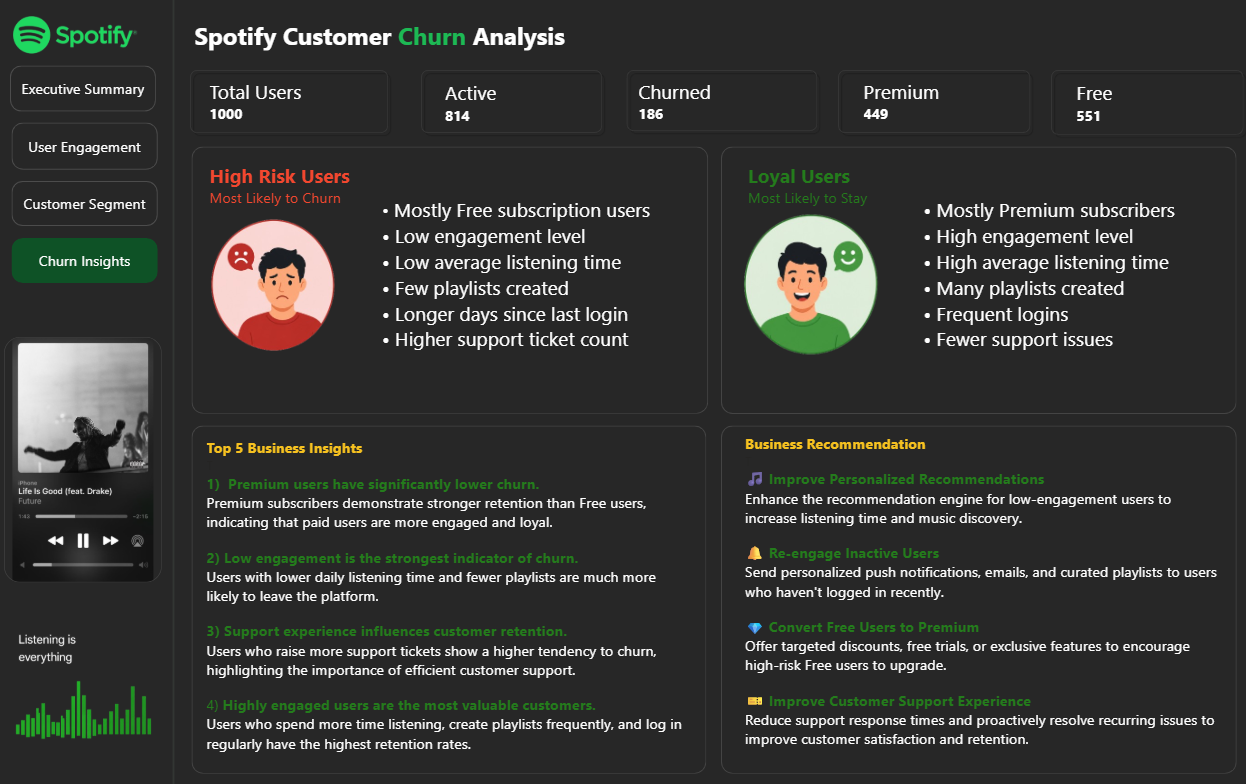

The page's visual inventory and layout, read from the dashboard file:
{"tool":"powerbi","page":{"name":"Page 4","canvas":[1400,900],"ordinal":3},"visuals":[{"type":"image","box":[8.8,0,161.2,88.8],"z":0},{"type":"shape","box":[218,168,574,297],"z":0,"group":"g6"},{"type":"shape","box":[807,479,573,387],"z":0,"group":"g8"},{"type":"shape","box":[212.3,77.7,230.1,80.1],"z":1000,"group":"g1"},{"type":"shape","box":[807.1,168.6,572.9,297.1],"z":1000},{"type":"image","box":[218.3,235,178.3,163.3],"z":1000,"group":"g6"},{"type":"textbox","box":[824.5,489,540,368.8],"z":1000,"group":"g8"},{"type":"textbox","box":[216.7,21.7,471.7,45],"z":2000},{"type":"textbox","box":[233.3,180,191.7,76.7],"z":2000,"group":"g6"},{"type":"shape","box":[16.7,77.8,162.2,51.1],"z":3000},{"type":"textbox","box":[233.5,85.5,258.6,65.4],"z":3000,"group":"g1"},{"type":"textbox","box":[425,218.3,345,201.7],"z":3000,"group":"g6"},{"type":"image","box":[815.7,237.8,177.8,163.3],"z":3000,"group":"g9"},{"type":"shape","box":[17.5,141.8,162.5,52.5],"z":4000},{"type":"textbox","box":[831.8,180,191.7,76.7],"z":5000,"group":"g9"},{"type":"shape","box":[17.5,270,162.5,50],"z":5000},{"type":"shape","box":[17.5,207.1,162.5,50],"z":6000},{"type":"shape","box":[191.7,0,13.3,900],"z":7000},{"type":"textbox","box":[1026.8,218.3,345,201.7],"z":7000,"group":"g9"},{"type":"group","id":"g1","title":"Group 1","box":[212.3,77.7,279.2,80],"z":8000},{"type":"group","id":"g2","title":"Group 2","box":[468,78,212,80],"z":9000},{"type":"shape","box":[468,78,211.2,80],"z":9000,"group":"g2"},{"type":"group","id":"g3","title":"Group 3","box":[696,78,220,78],"z":10000},{"type":"group","id":"g4","title":"Group 4","box":[1168,78,224,82],"z":11000},{"type":"textbox","box":[494.4,88,186,68.4],"z":11000,"group":"g2"},{"type":"group","id":"g5","title":"Group 5","box":[932.3,77.7,233.8,80],"z":12000},{"type":"shape","box":[932.3,77.7,223.7,80],"z":13000,"group":"g5"},{"type":"image","box":[10,380,175,272.5],"z":13000},{"type":"textbox","box":[708.6,85.8,208.9,65.4],"z":14000,"group":"g3"},{"type":"image","box":[10,697.5,176.2,155],"z":14000},{"type":"shape","box":[696,78,222,78],"z":15000,"group":"g3"},{"type":"group","id":"g6","title":"Group 6","box":[218,168,574,297],"z":15000},{"type":"textbox","box":[961.1,86.6,205.1,63.5],"z":16000,"group":"g5"},{"type":"group","id":"g7","title":"Group 7","box":[219,478,572,387],"z":16000},{"type":"shape","box":[1168,78,224,82],"z":17000,"group":"g4"},{"type":"group","id":"g8","title":"Group 8","box":[807,479,573,387],"z":17000},{"type":"textbox","box":[1196.7,87.6,194.4,62.9],"z":18000,"group":"g4"},{"type":"group","id":"g9","title":"Group 9","box":[815.7,180,555.7,240],"z":18000},{"type":"shape","box":[219,478,572,387],"z":19000,"group":"g7"},{"type":"textbox","box":[231.2,486.2,538.8,366.2],"z":20000,"group":"g7"}]}

Visuals, with their boxes in screenshot pixels (x1, y1, x2, y2), scaled from the page's 1400x900 canvas onto the 1246x784 screenshot:
image: 8,0,151,77
shape: 194,146,705,405
shape: 718,417,1228,754
shape: 189,68,394,137
shape: 718,147,1228,406
image: 194,205,353,347
textbox: 734,426,1214,747
textbox: 193,19,613,58
textbox: 208,157,378,224
shape: 15,68,159,112
textbox: 208,74,438,131
textbox: 378,190,685,366
image: 726,207,884,349
shape: 16,124,160,169
textbox: 740,157,911,224
shape: 16,235,160,279
shape: 16,180,160,224
shape: 171,0,182,783
textbox: 914,190,1221,366
"Group 1" group: 189,68,437,137
"Group 2" group: 417,68,605,138
shape: 417,68,604,138
"Group 3" group: 619,68,815,136
"Group 4" group: 1040,68,1239,139
textbox: 440,77,606,136
"Group 5" group: 830,68,1038,137
shape: 830,68,1029,137
image: 9,331,165,568
textbox: 631,75,817,132
image: 9,608,166,743
shape: 619,68,817,136
"Group 6" group: 194,146,705,405
textbox: 855,75,1038,131
"Group 7" group: 195,416,704,754
shape: 1040,68,1239,139
"Group 8" group: 718,417,1228,754
textbox: 1065,76,1238,131
"Group 9" group: 726,157,1221,366
shape: 195,416,704,754
textbox: 206,424,685,743
